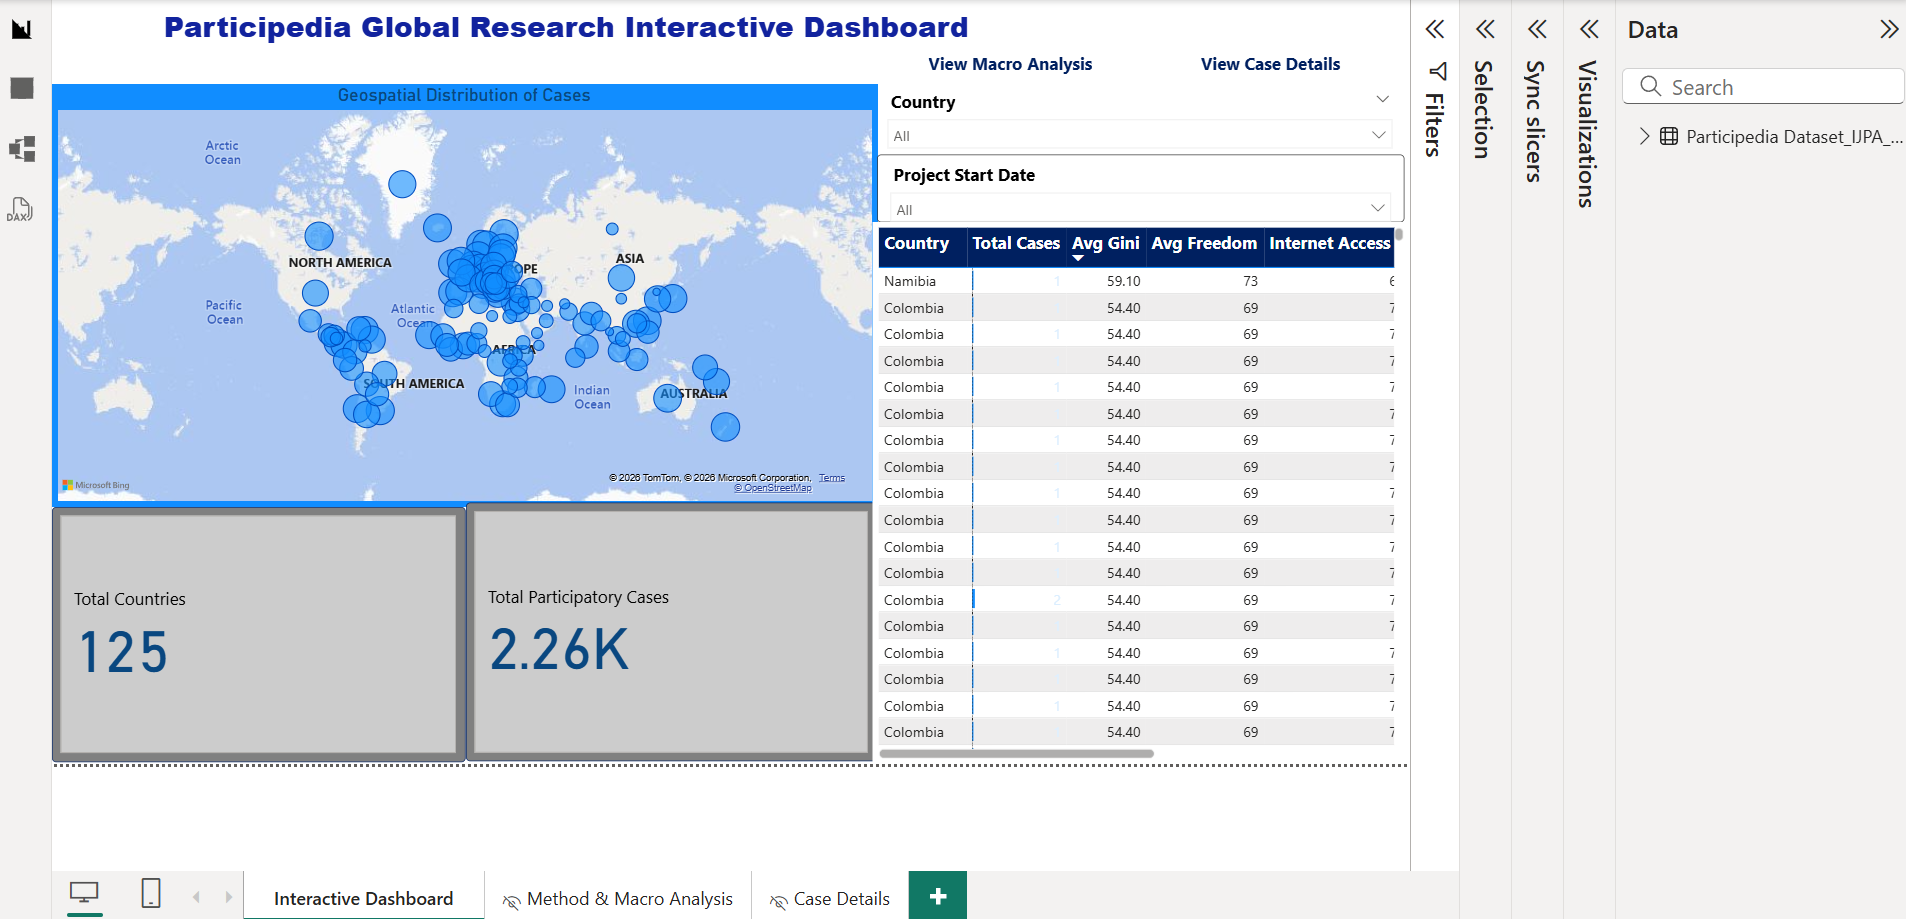

This screenshot's page, from the dashboard's own definition file:
{"tool":"powerbi","page":{"name":"Interactive Dashboard","canvas":[1280,720],"ordinal":0},"visuals":[{"type":"slicer","fields":{"Values":["analytics stg_cases.country"]},"box":[778.6,80.4,494.8,65.3],"z":0},{"type":"slicer","fields":{"Values":["analytics stg_cases.start_date"]},"box":[777.4,145,497.5,64.1],"z":1000},{"type":"textbox","box":[100.6,0,788.9,60.4],"z":2000},{"type":"tableEx","fields":{"Values":["analytics stg_cases.country","Count(analytics stg_cases.id)","Avg(analytics stg_cases.gini_index)","Avg(analytics stg_cases.internet_pct)","Avg(analytics stg_cases.freedom_score)","analytics stg_cases.start_date","analytics stg_cases.end_date"]},"box":[767.6,209.5,511.8,509.9],"z":3000},{"type":"actionButton","box":[778.9,35.5,248.5,48],"z":4000},{"type":"actionButton","box":[1027.3,39.7,244.3,39.7],"z":5000},{"type":"cardVisual","fields":{"Data":["Count(analytics stg_cases.id)"]},"box":[389.4,476.5,383.8,241],"z":6000},{"type":"map","fields":{"Category":["analytics stg_cases.country","analytics stg_cases.city"],"Size":["Count(analytics stg_cases.id)"]},"box":[0,40.8,778.8,435.7],"z":7000},{"type":"cardVisual","fields":{"Data":["Count(analytics stg_cases.country)"]},"box":[0,477,389,241],"z":8000}]}

Visuals, with their boxes on the page's 1280x720 design canvas (x1, y1, x2, y2). These are canvas units, not pixel positions in the 1906x919 screenshot, which may show the page scaled, cropped or inside an application window:
slicer - analytics stg_cases.country: bbox=[779, 80, 1273, 146]
slicer - analytics stg_cases.start_date: bbox=[777, 145, 1275, 209]
textbox: bbox=[101, 0, 890, 60]
tableEx - analytics stg_cases.country x Count(analytics stg_cases.id): bbox=[768, 210, 1279, 719]
actionButton: bbox=[779, 36, 1027, 84]
actionButton: bbox=[1027, 40, 1272, 79]
cardVisual - Count(analytics stg_cases.id): bbox=[389, 476, 773, 718]
map - analytics stg_cases.country x analytics stg_cases.city: bbox=[0, 41, 779, 476]
cardVisual - Count(analytics stg_cases.country): bbox=[0, 477, 389, 718]
